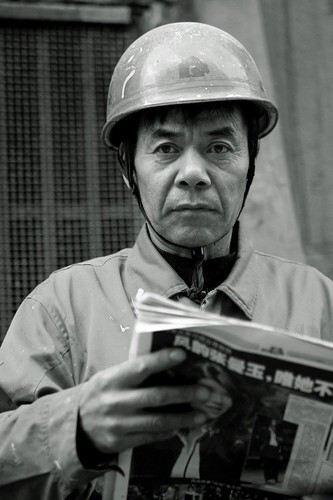person hardhat: (51, 26, 330, 500)
